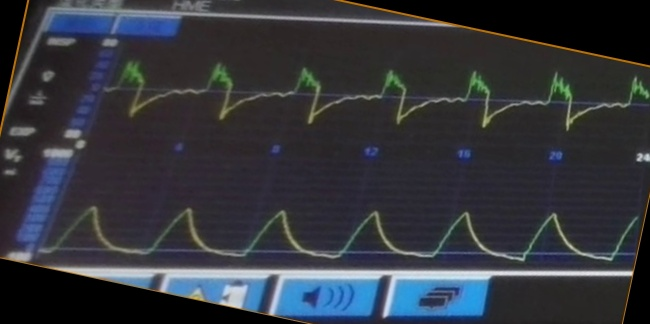Accumulation Flow: (119, 52, 583, 137)
Volume: (72, 167, 627, 266)
